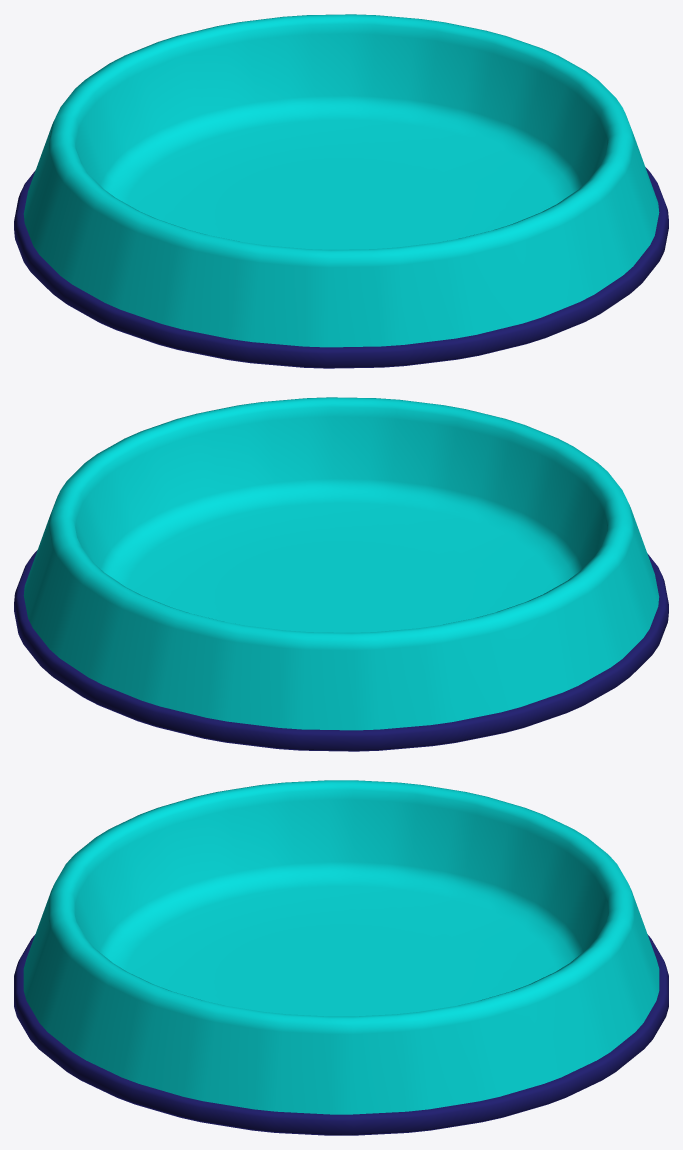
The model's file is catbowl_modell_alvin_001.fbx.
The picture shows the model from 3 angles, top to bottom: view 1: azimuth 30°, elevation 25°; view 2: azimuth 150°, elevation 25°; view 3: azimuth 270°, elevation 25°; orthographic projection.
Parts seen in each view (by area): view 1: catbowl; view 2: catbowl; view 3: catbowl.
Boxes of the visible parts, x1=… form: catbowl: x1=14, y1=14, x2=668, y2=368; catbowl: x1=14, y1=397, x2=668, y2=751; catbowl: x1=14, y1=780, x2=668, y2=1135.
Bounding box in the file's own units: 550 × 91.12 × 548.
